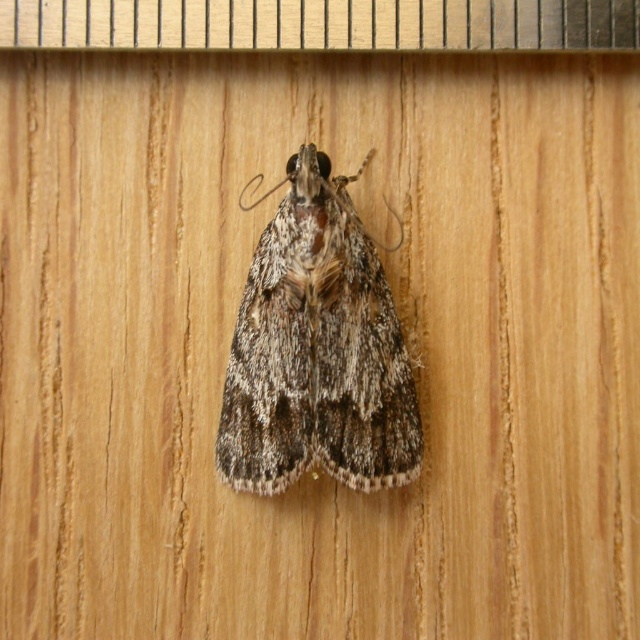Moths and butterflies: (217, 138, 426, 495)
